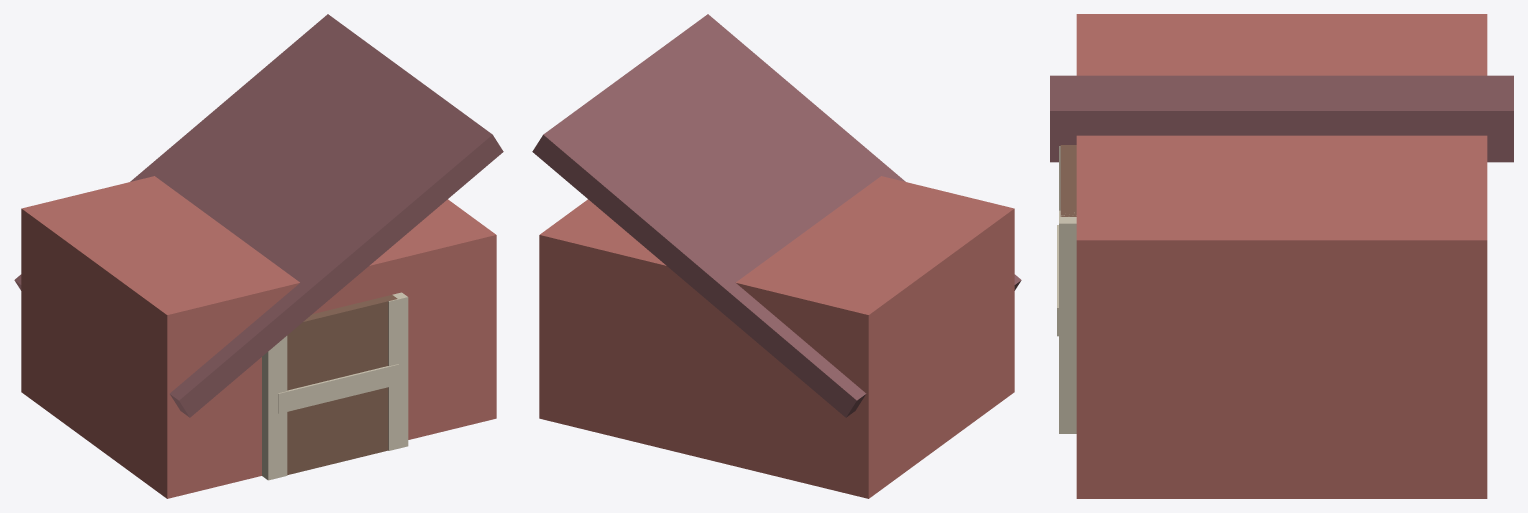
File: barn.glb
3 views of the same model, side by side, from view 1: azimuth 30°, elevation 25°; view 2: azimuth 150°, elevation 25°; view 3: azimuth 270°, elevation 25° (orthographic). The views are drawn at different scales.
Visible parts, largest first — view 1: barn_0, barn_1, barn_2, barn_3, barn_4, barn_5; view 2: barn_0, barn_1; view 3: barn_0, barn_1, barn_4, barn_2.
Boxes of the visible parts, x1,y1,x2,y2 form: barn_0: [21, 176, 496, 498]; barn_1: [14, 14, 503, 417]; barn_2: [287, 295, 397, 474]; barn_3: [262, 336, 287, 480]; barn_4: [388, 292, 408, 450]; barn_5: [278, 364, 399, 413]; barn_0: [539, 176, 1014, 498]; barn_1: [532, 14, 1021, 417]; barn_0: [1076, 14, 1487, 498]; barn_1: [1050, 75, 1513, 162]; barn_4: [1059, 210, 1076, 433]; barn_2: [1060, 145, 1076, 216].
Bounding box in the file's own units: 6 × 5.12 × 5.2.
